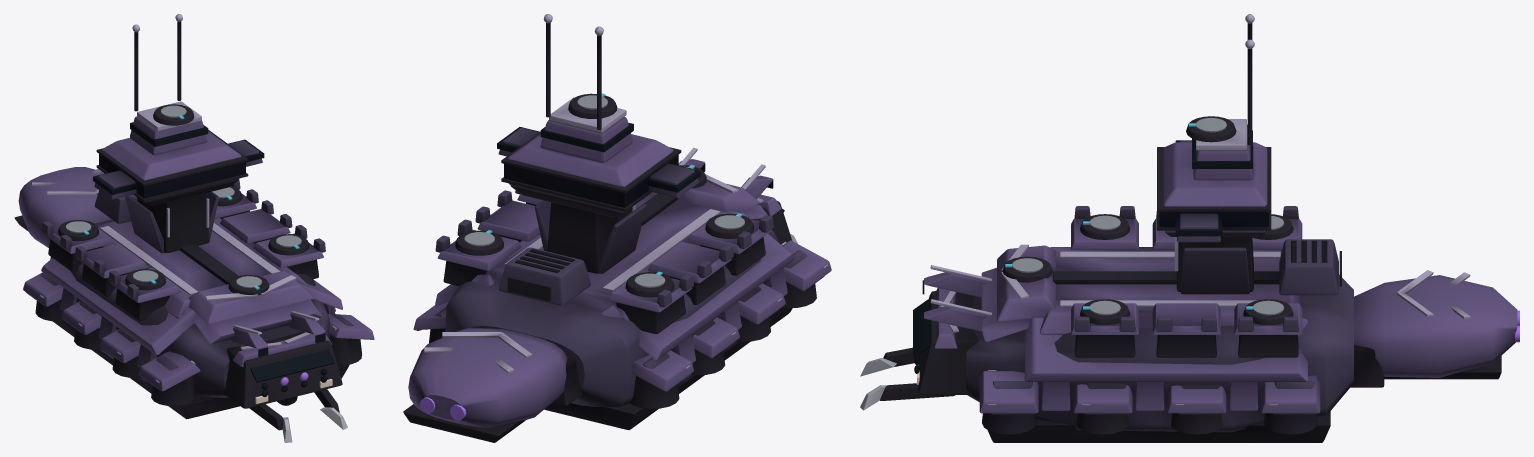
The model's file is ex_strider_10.glb.
3 renders of one model, left to right at view 1: azimuth 30°, elevation 25°; view 2: azimuth 150°, elevation 25°; view 3: azimuth 270°, elevation 25°, orthographic. The views are drawn at different scales.
Visible parts, largest first — view 1: body; view 2: body; view 3: body.
Boxes of the visible parts, x1,y1,x2,y2 form: body: (14,14,374,442); body: (403,14,831,442); body: (860,14,1519,442).
Bounding box in the file's own units: 8.26 × 11.29 × 18.19.
